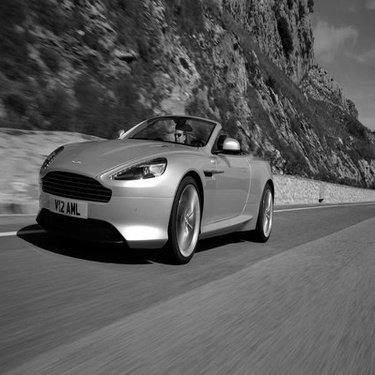car: (23, 106, 279, 269)
